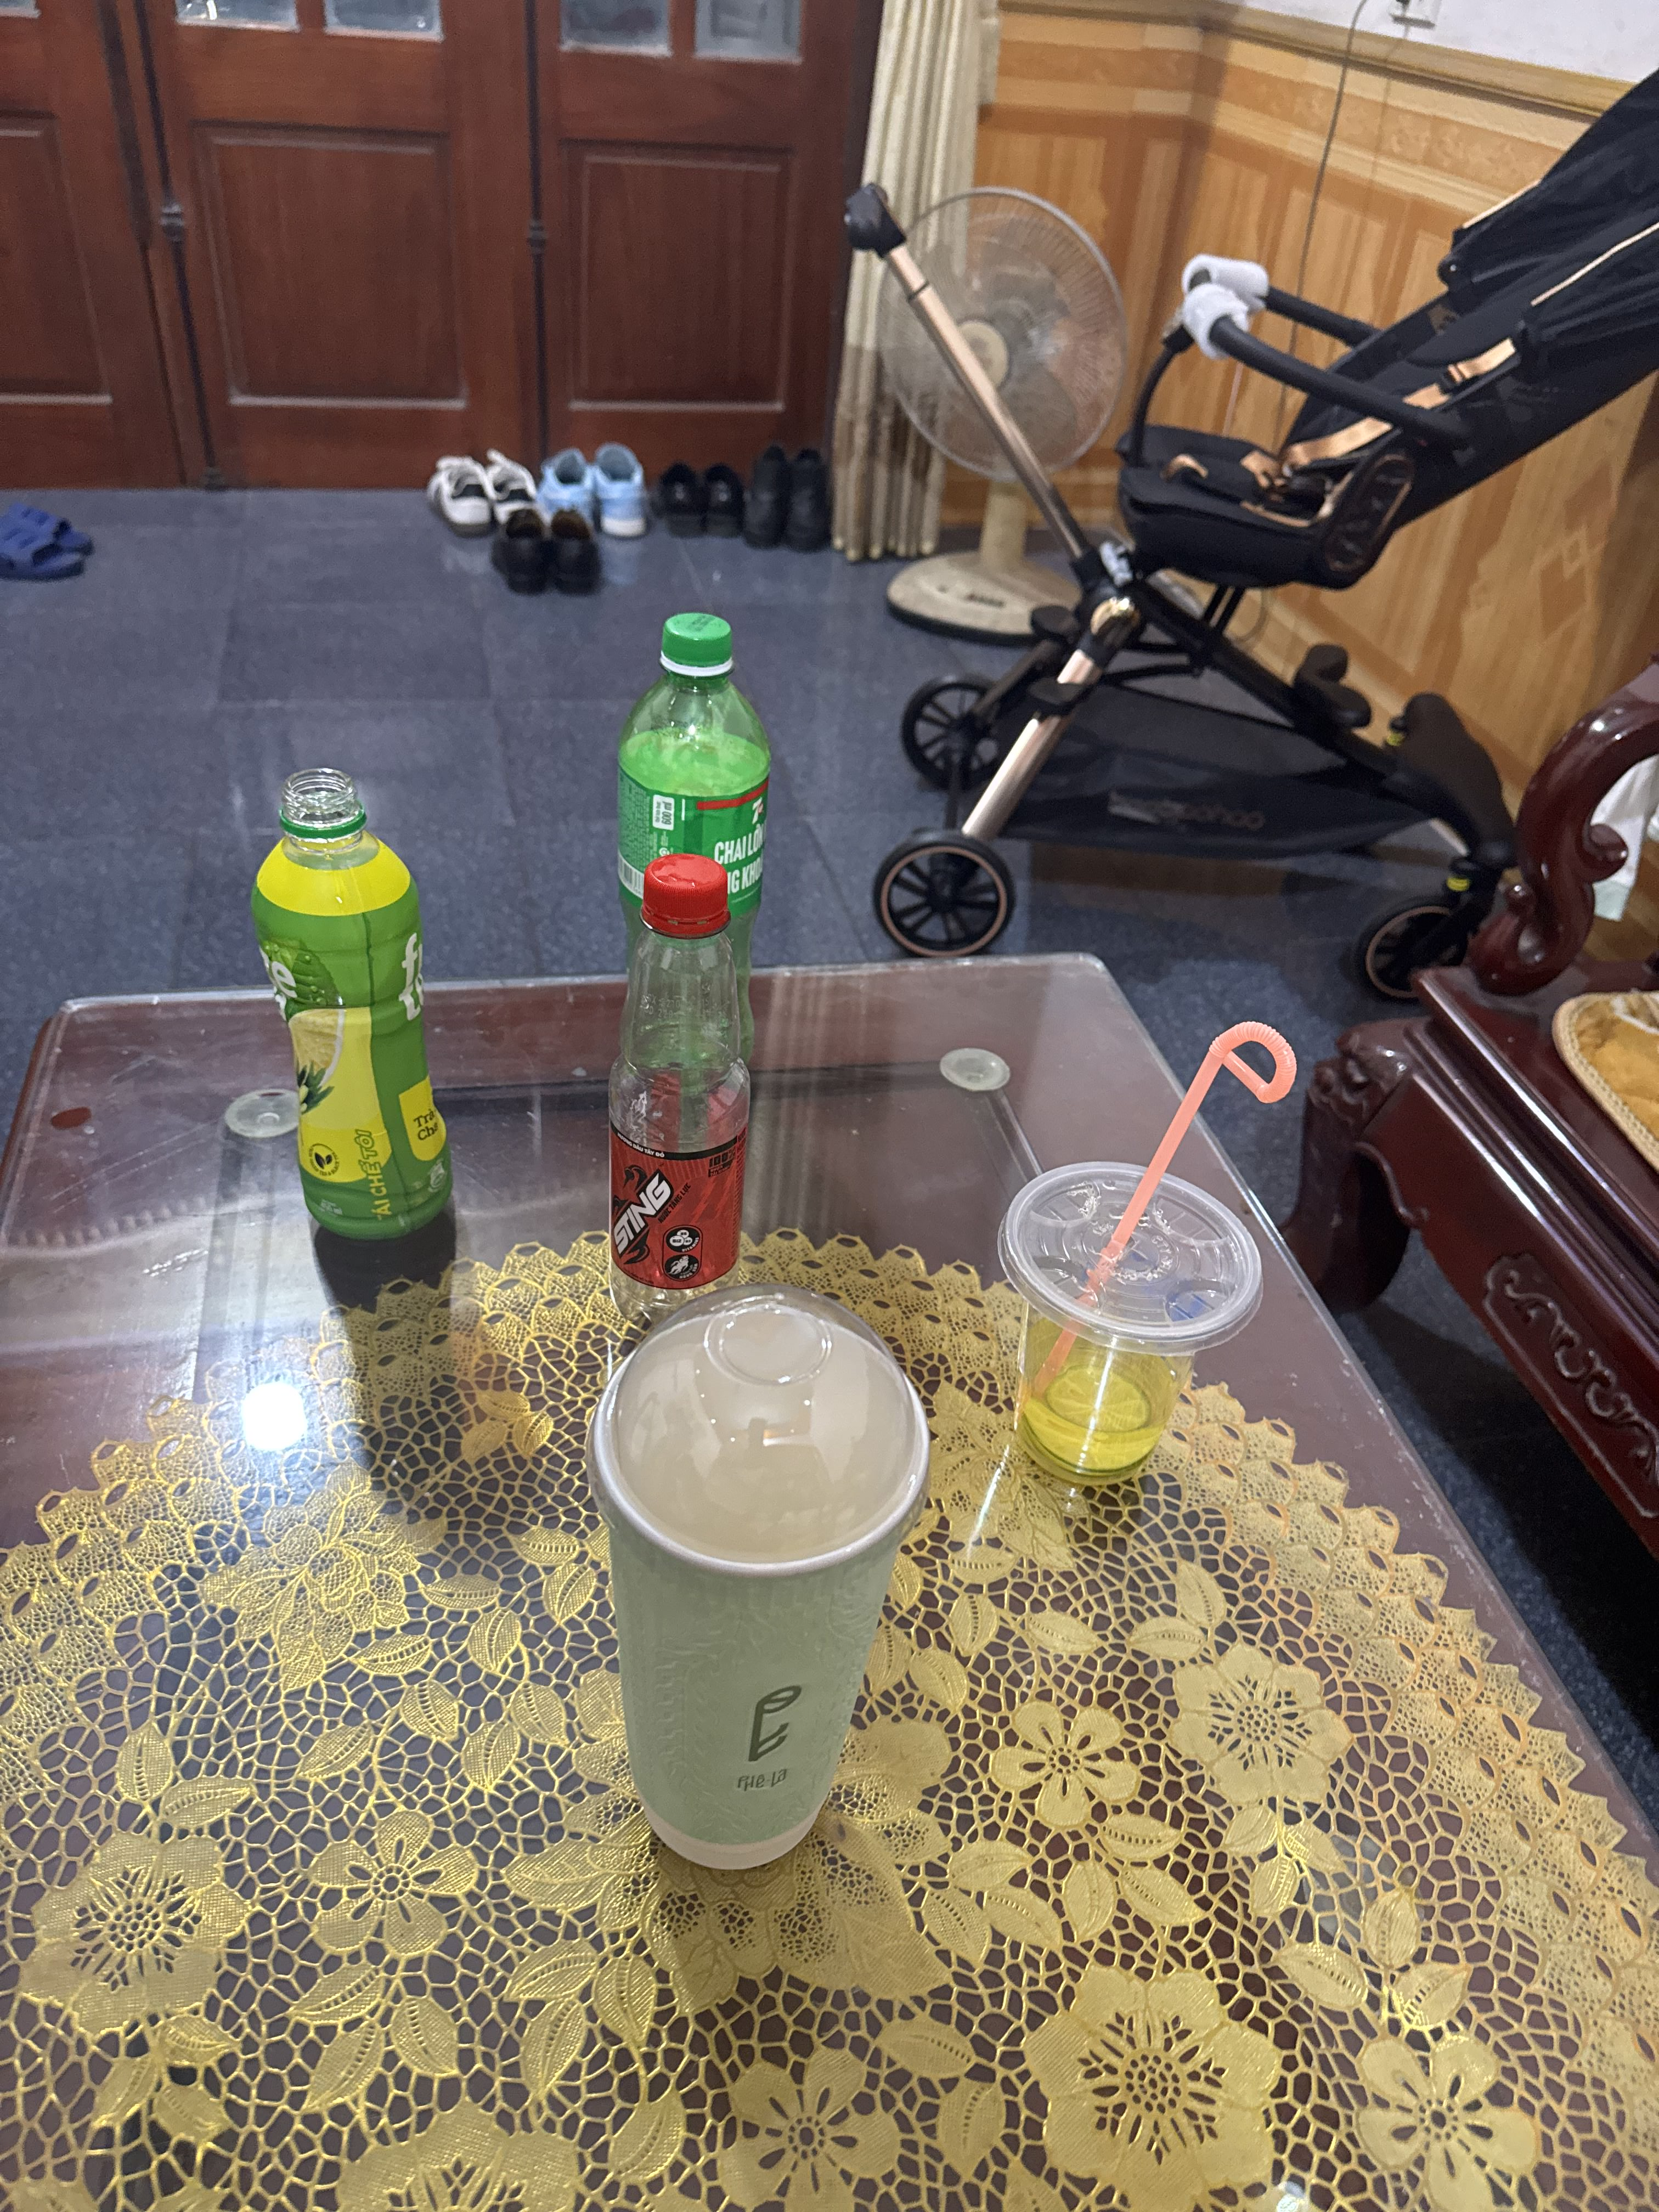2: (549, 1268, 943, 1959), (962, 1130, 1298, 1534)
bottle: (216, 735, 502, 1268), (565, 852, 814, 1350), (587, 585, 791, 1073)
